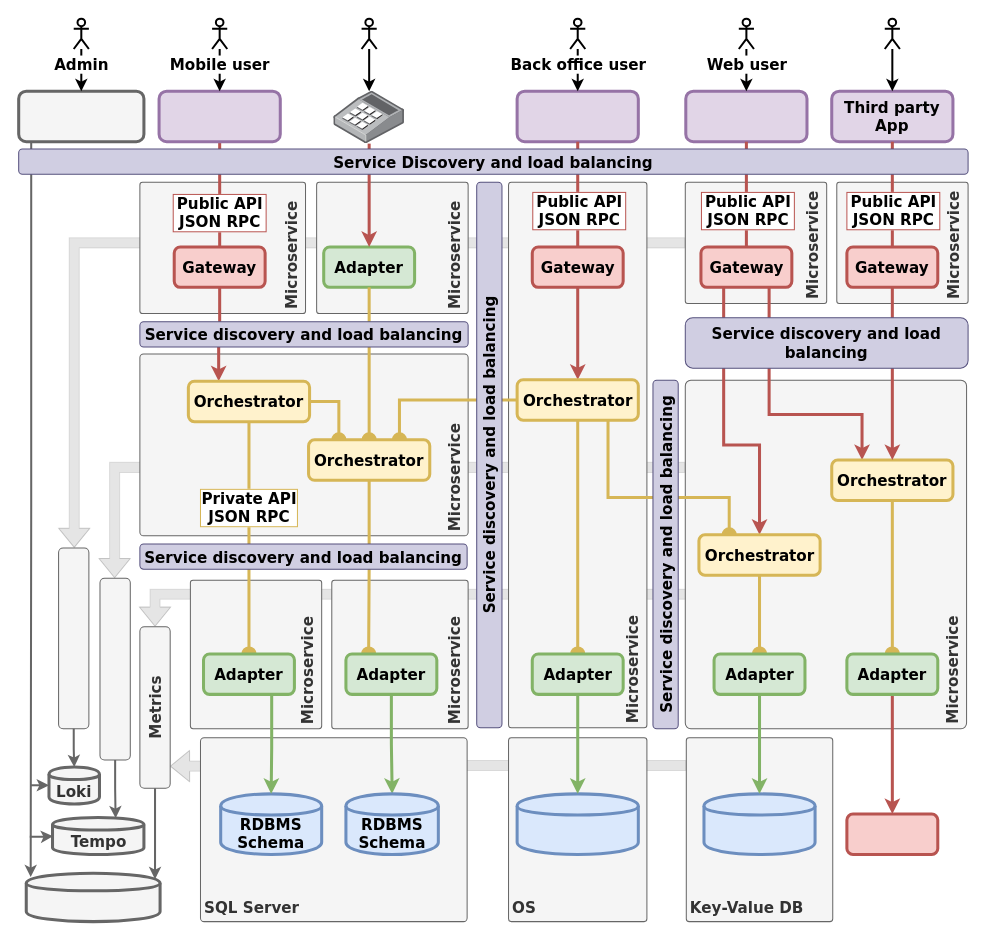
Some shapes in this 986 by 940 pixel diagram are drawn without their labels. The shapes that lost their labels are listed below. From the top down, each one's centre as x and y in pixels, then its label:
the point at 368,33: Device User
the point at 891,33: Third party user
the point at 81,116: Monitoring UI (Grafana)
the point at 219,116: Mobile app
the point at 577,116: Back office Web app
the point at 746,116: End user Web app
the point at 73,638: Log aggregation
the point at 114,668: Distributed tracing
the point at 577,823: File System
the point at 759,823: Key-Value Schema
the point at 892,833: External API
the point at 92,897: Prometheus
